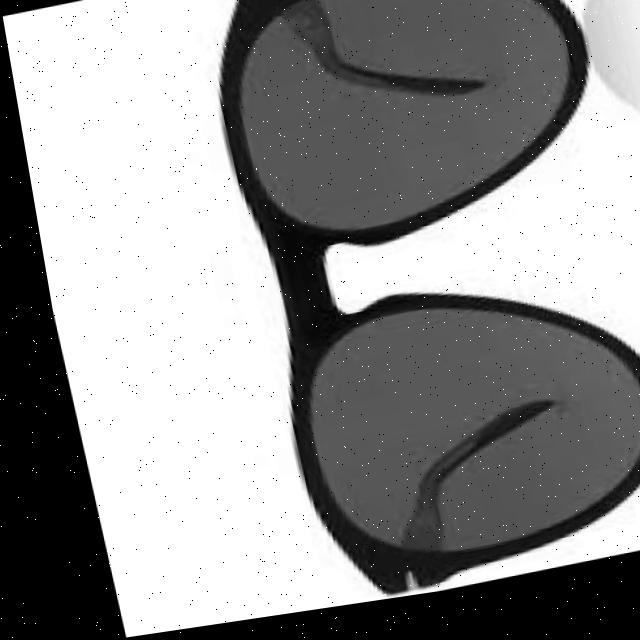gozluk: (146, 0, 640, 621)
